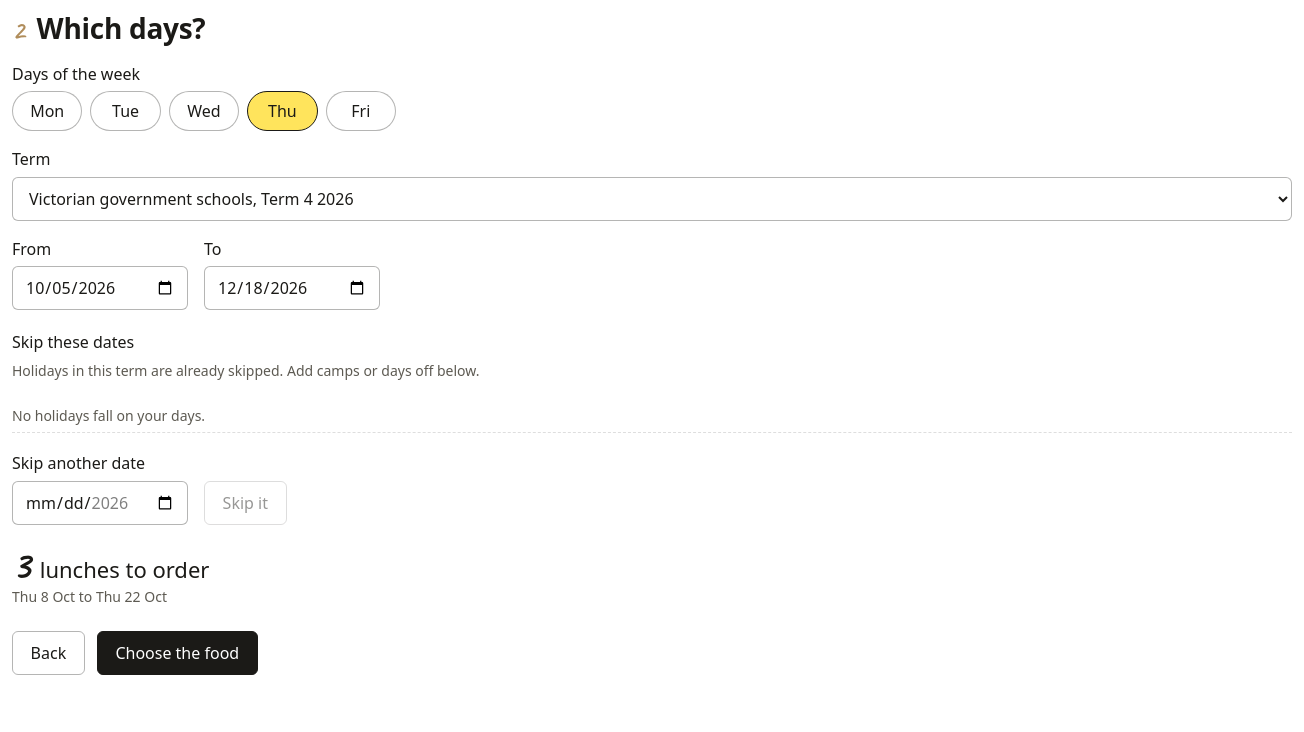
Test: WhenStep › will not skip a date that is not in the plan
Note: A Tuesday, and only Thursdays are planned.
In the date field labelled "Skip another date": coordinates (100, 502) [12,480,188,524], type "2026-10-20"
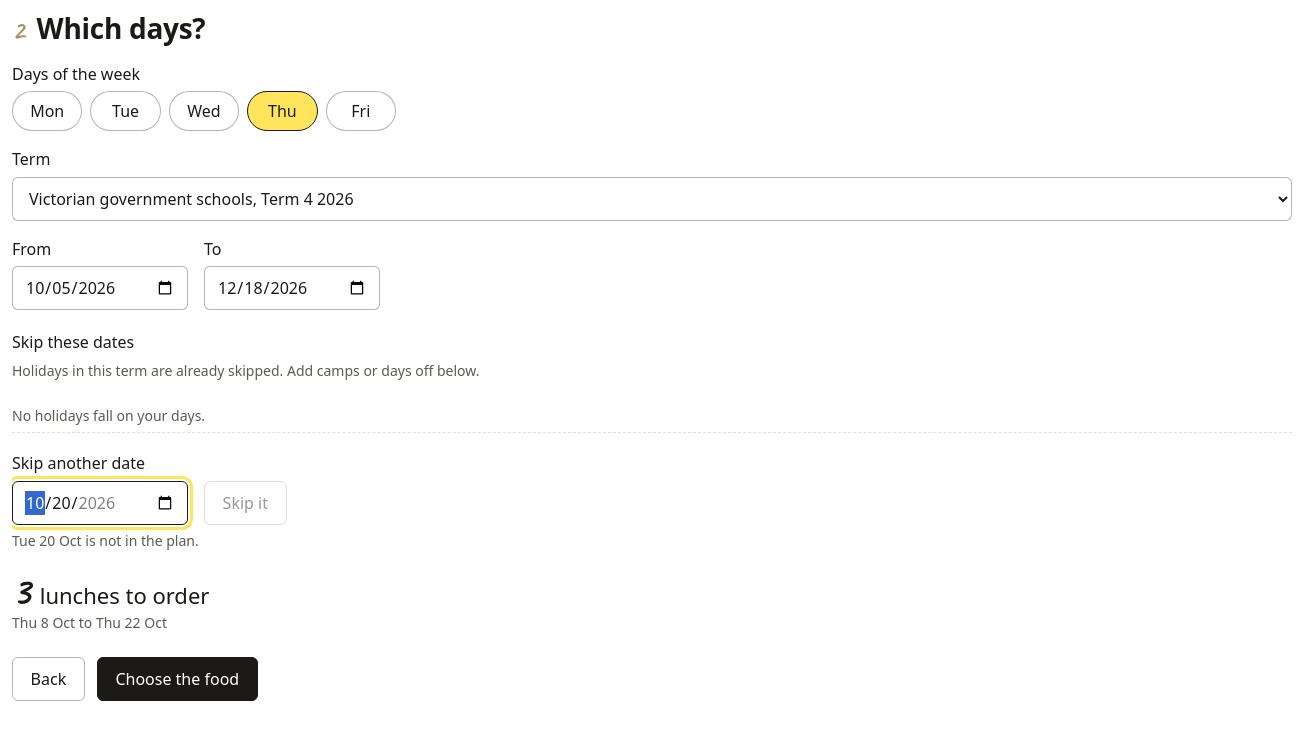
expect the button "Skip it" is disabled: met, box [204,480,287,524]
expect the text "Tue 20 Oct is not in the plan." is shown: met, box [12,531,199,550]
